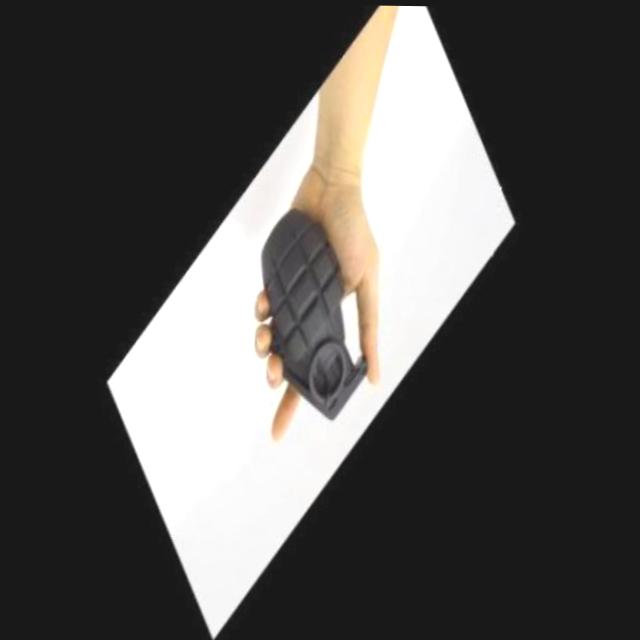grenade: (202, 163, 433, 453)
